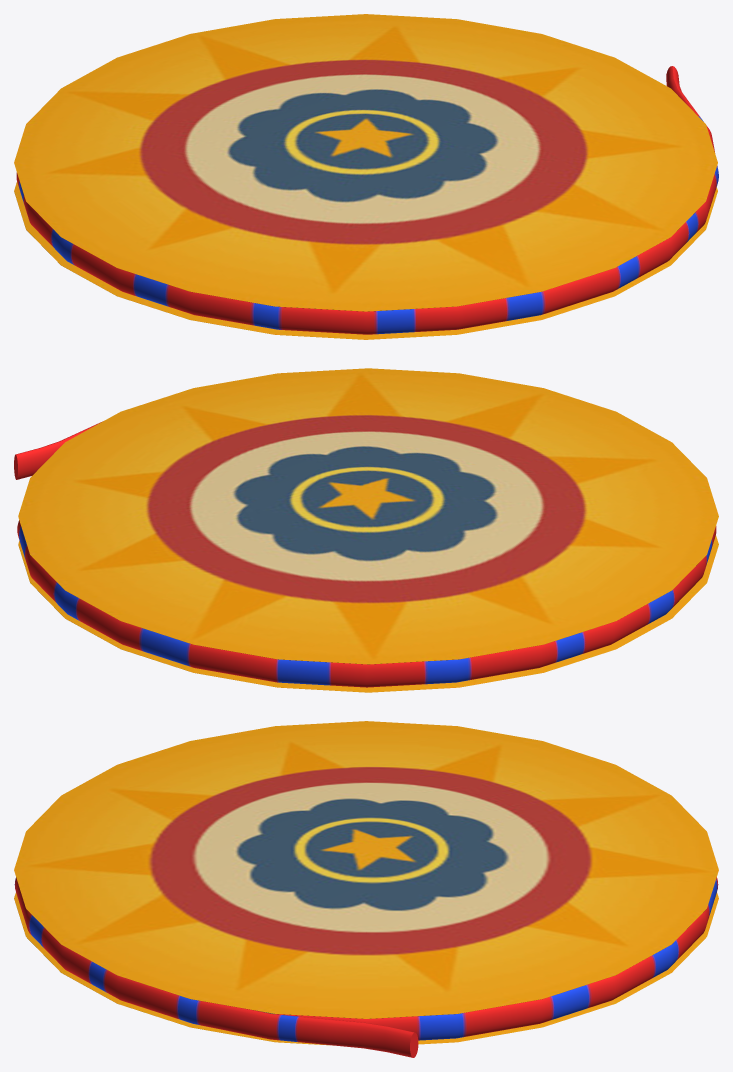
The model's file is chakri_FBX.fbx.
3 views of the same model, one above another, from view 1: azimuth 30°, elevation 25°; view 2: azimuth 150°, elevation 25°; view 3: azimuth 270°, elevation 25° (orthographic).
Visible parts, largest first — view 1: pCylinder6; view 2: pCylinder6; view 3: pCylinder6.
Boxes of the visible parts, <box> form: pCylinder6: <box>14,14,718,339</box>; pCylinder6: <box>14,368,718,692</box>; pCylinder6: <box>14,721,718,1057</box>.
Bounding box in the file's own units: 5.24 × 0.5672 × 5.
